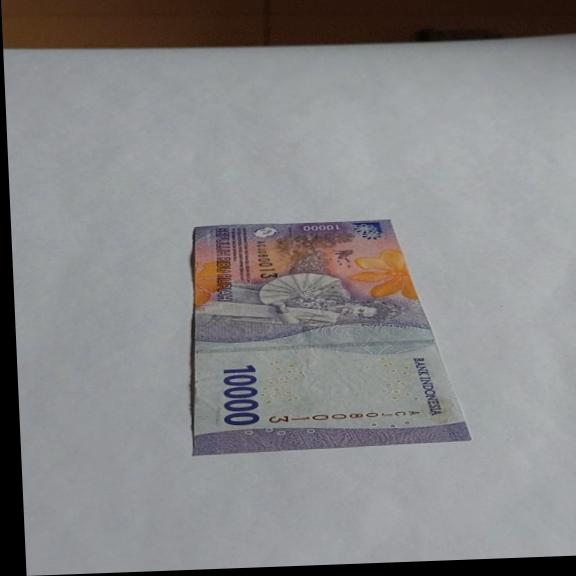Kertas: (181, 215, 473, 455), (219, 363, 263, 426)
